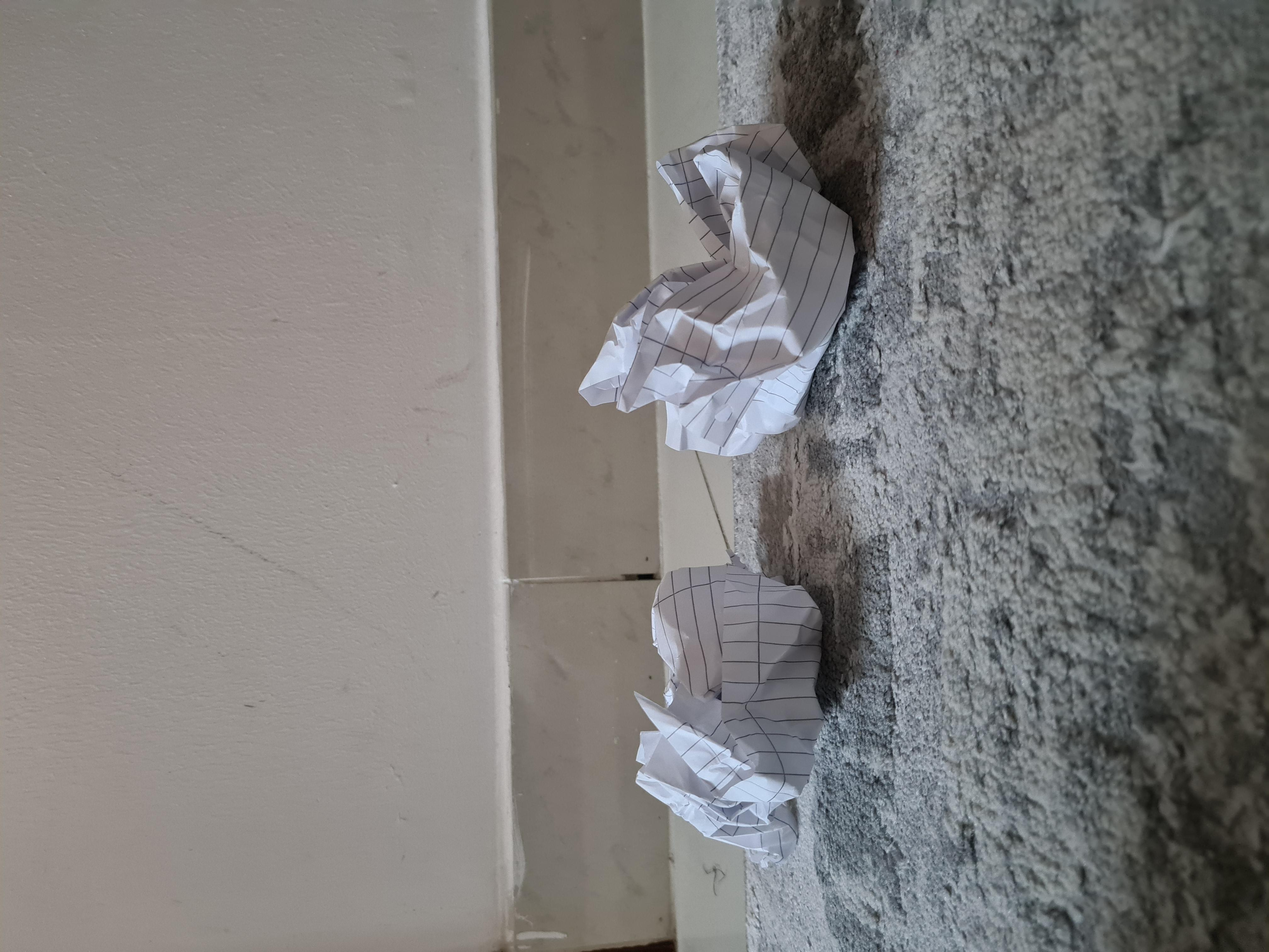paper: (669, 433, 1121, 643), (131, 477, 535, 622)
